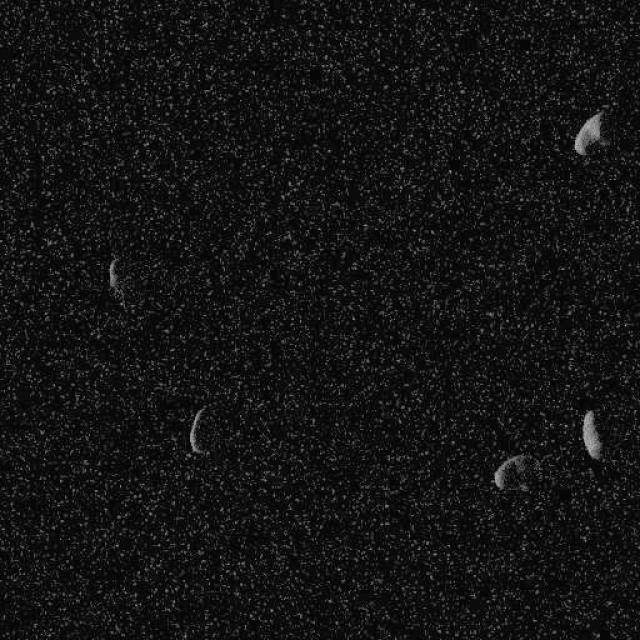D2: (492, 452, 540, 492), (573, 109, 605, 156), (188, 405, 210, 455), (582, 409, 602, 461), (106, 255, 125, 306)
